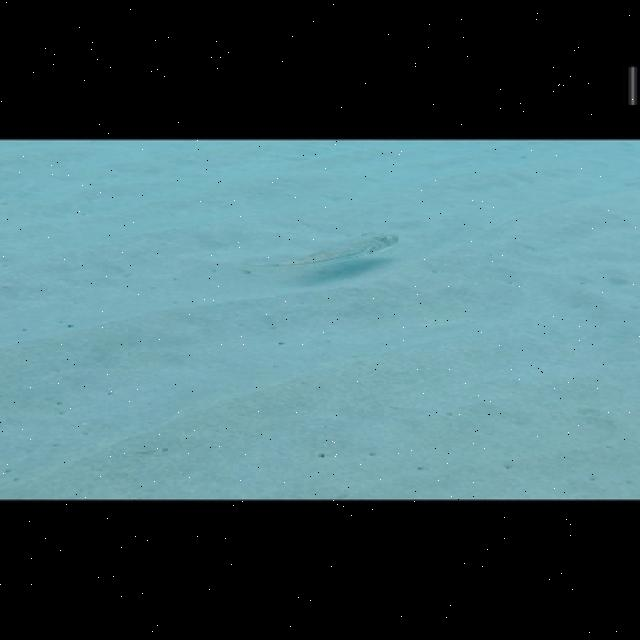Balik: (268, 235, 398, 266)
